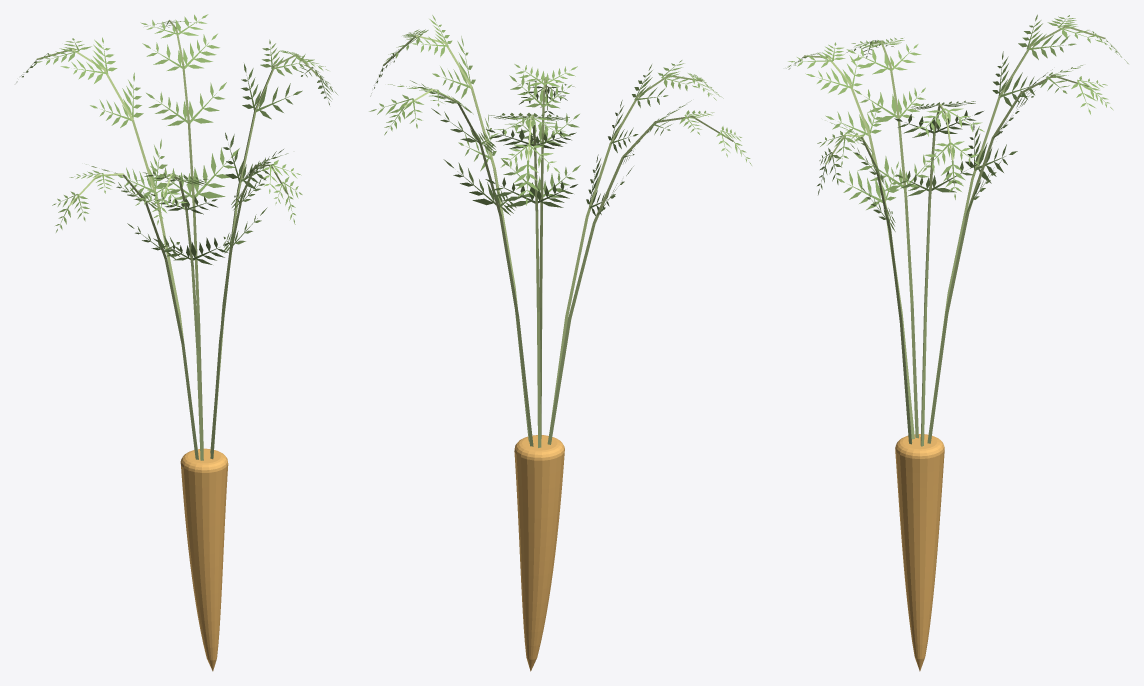
The model's file is carrot_v05.glb.
The picture shows the model from 3 angles, left to right: view 1: azimuth 30°, elevation 25°; view 2: azimuth 150°, elevation 25°; view 3: azimuth 270°, elevation 25°; orthographic projection. The views are drawn at different scales.
Visible parts, largest first — view 1: leaves, root, petioles; view 2: leaves, root, petioles; view 3: leaves, root, petioles.
Boxes of the visible parts, box(x1,y1,x2,y2) form: leaves: box(16, 14, 337, 264); root: box(180, 448, 228, 671); petioles: box(36, 20, 320, 460); leaves: box(369, 15, 751, 215); root: box(514, 435, 564, 671); petioles: box(383, 35, 733, 447); leaves: box(786, 14, 1128, 231); root: box(895, 434, 944, 671); petioles: box(803, 25, 1105, 446).
Bounding box in the file's own units: 0.2768 × 0.4947 × 0.2537.
